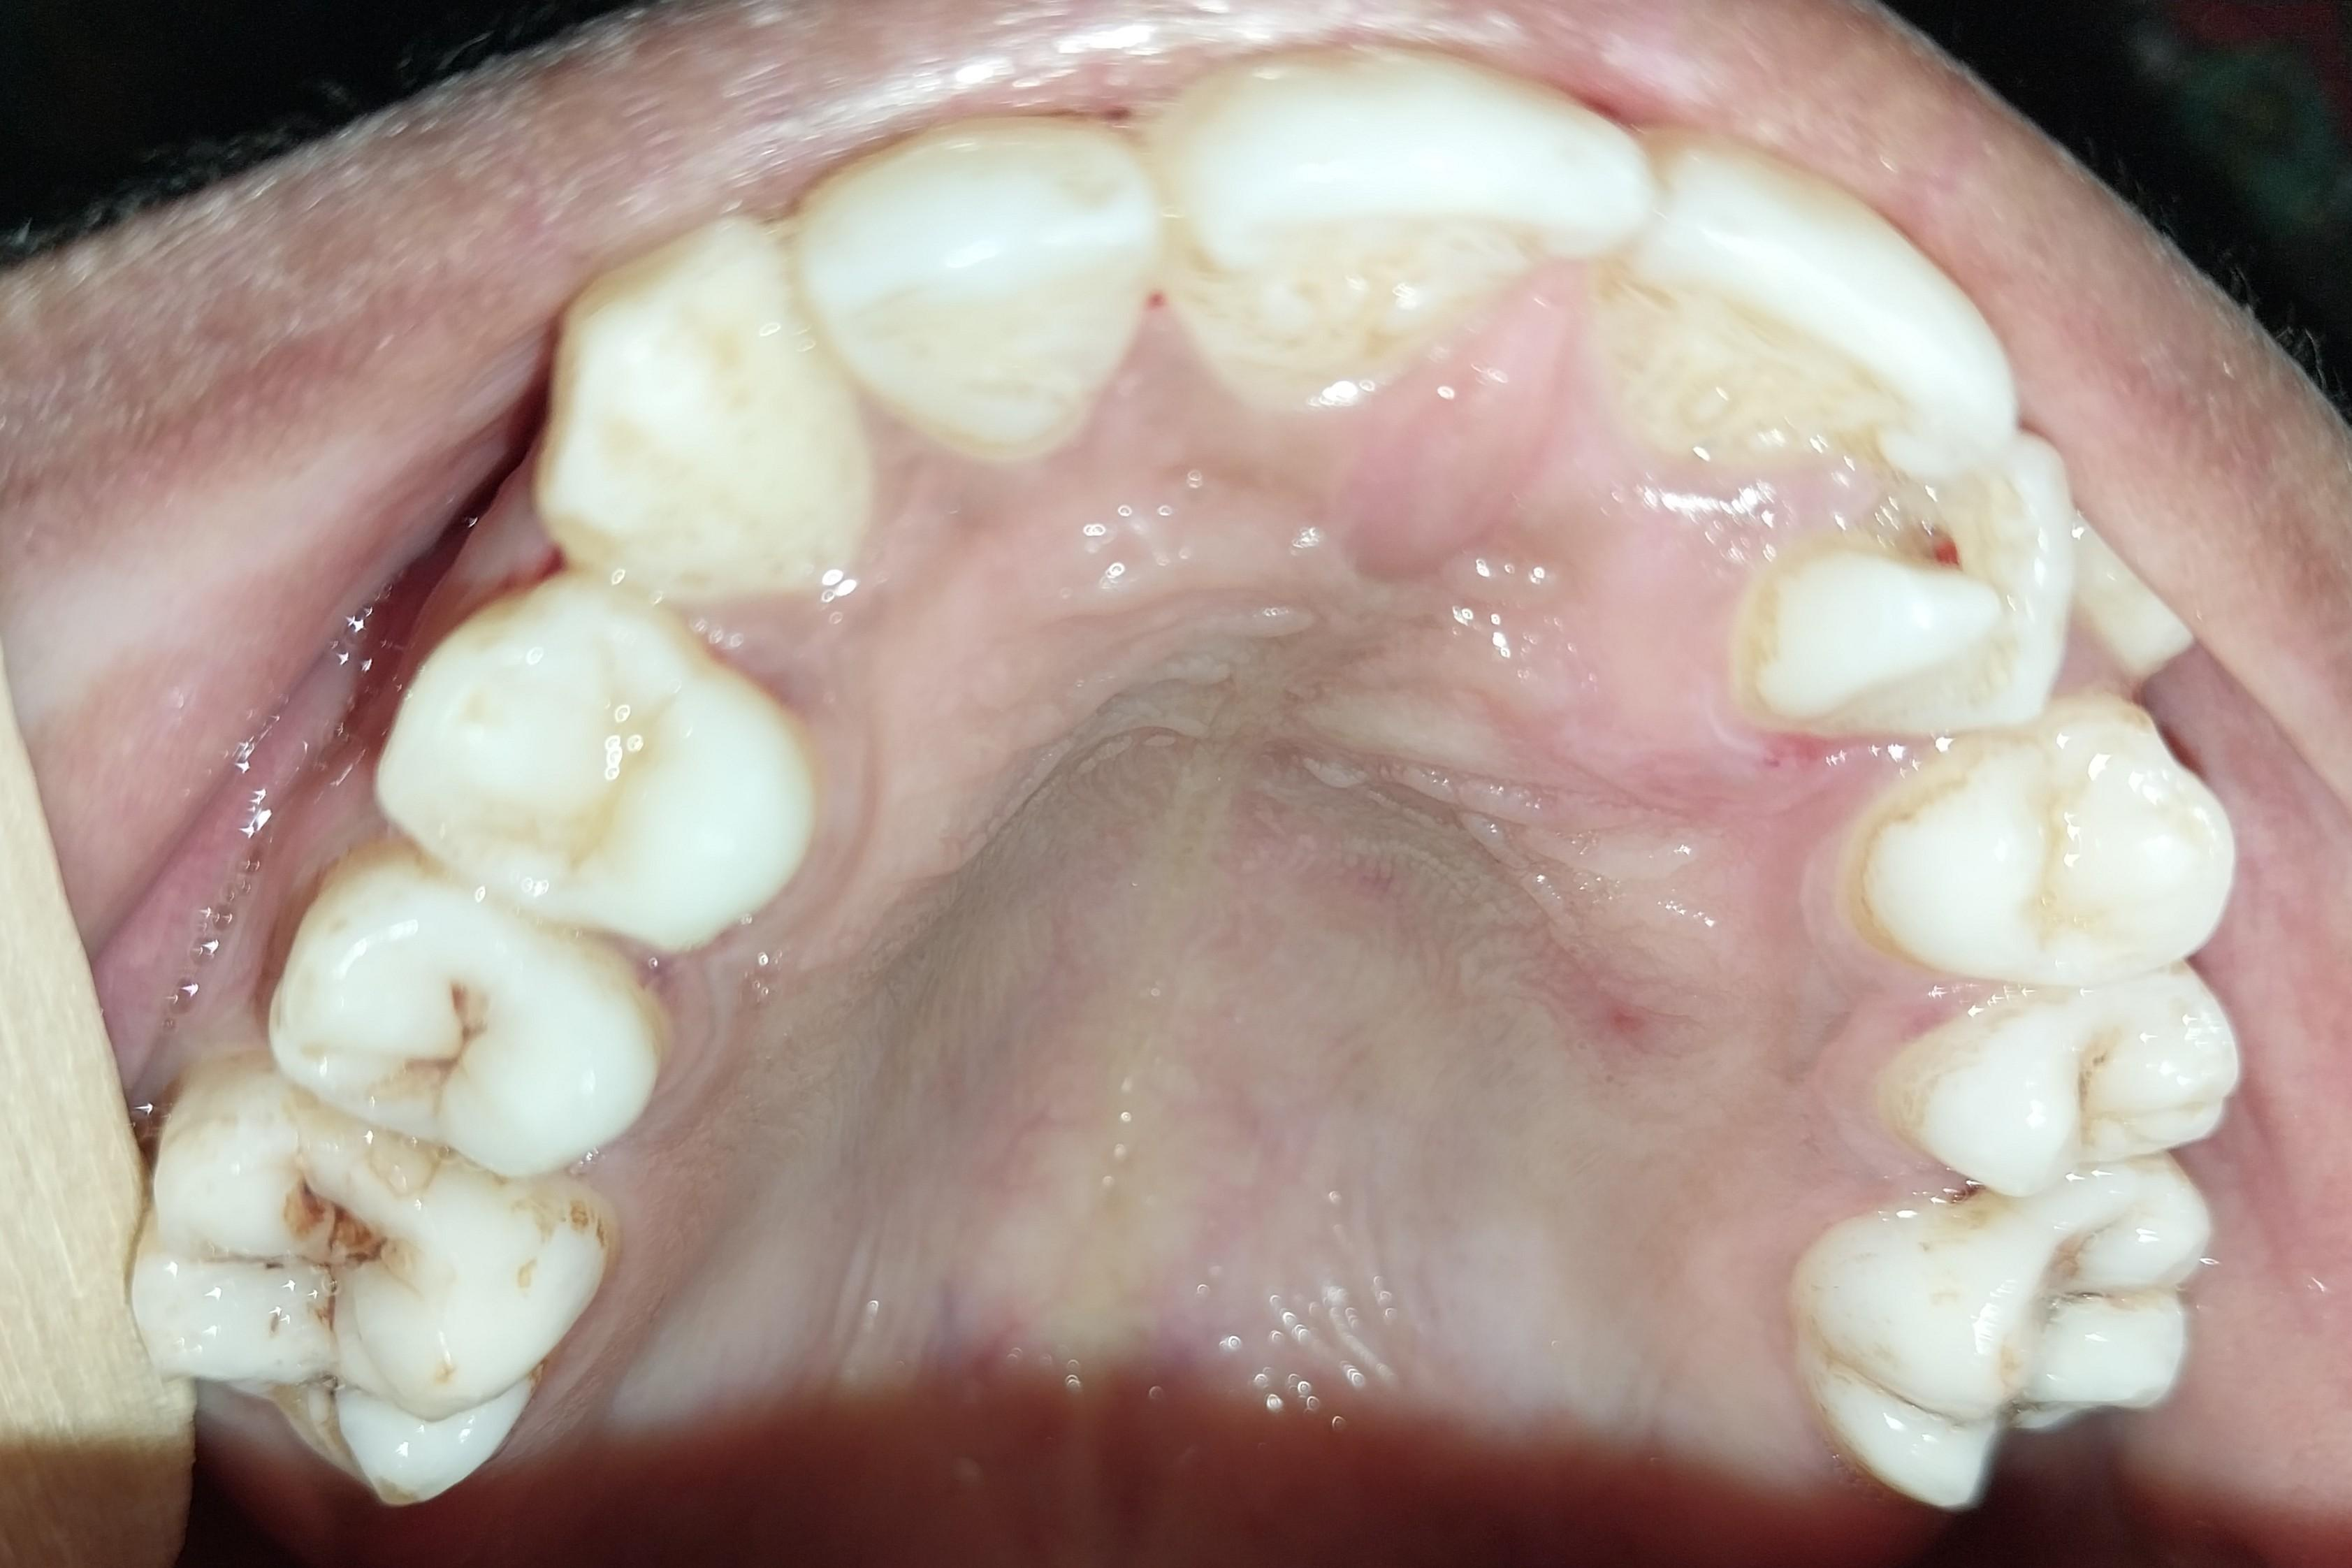D: (130, 1087, 603, 1499), (1802, 1186, 2226, 1501), (268, 867, 665, 1176)
